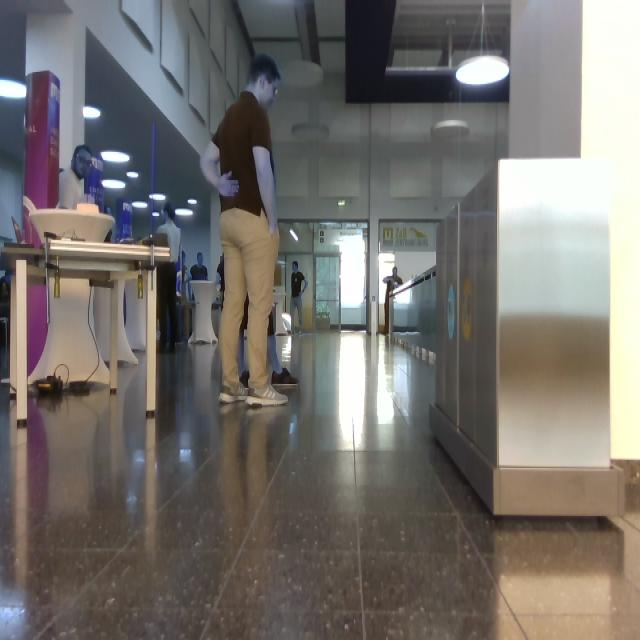door: (313, 222, 368, 329)
light bulb: (456, 1, 510, 85), (432, 121, 470, 141), (1, 80, 26, 100), (100, 150, 130, 162), (103, 180, 126, 190), (85, 106, 101, 118), (290, 229, 299, 241), (133, 202, 146, 209)
person: (201, 56, 288, 406), (158, 202, 181, 352), (58, 145, 95, 209), (292, 262, 308, 332)
pillar: (510, 1, 640, 513), (26, 14, 86, 209)
table: (3, 230, 170, 425), (29, 280, 109, 384), (31, 205, 114, 245)
tiled floor: (1, 333, 640, 640)
trash bin: (431, 160, 623, 514)
